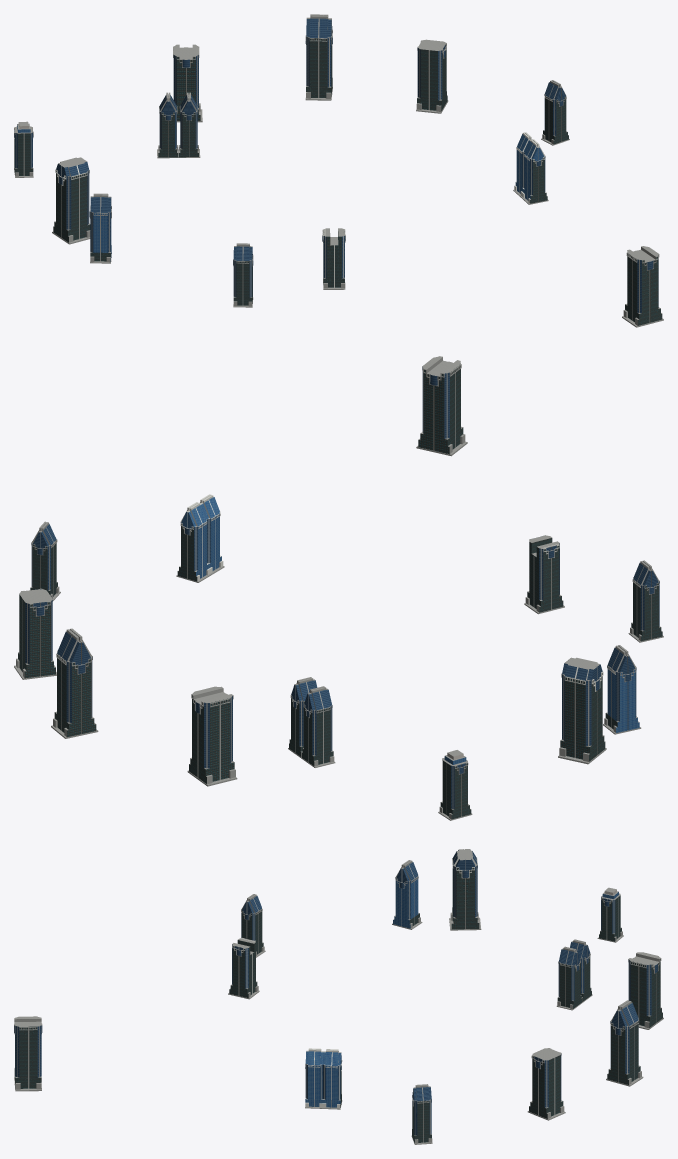
Rendered from Canada_track_building_city_01.dae.
3 renders of one model, top to bottom at view 1: azimuth 30°, elevation 25°; view 2: azimuth 150°, elevation 25°; view 3: azimuth 270°, elevation 25°, orthographic. The views are drawn at different scales.
Parts seen in each view (by area): view 1: building_city_01_03, building_city_01_010, building_city_01_11, building_city_01_09, building_city_01_02, building_city_01_06, building_city_01_10, building_city_01_04, building_city_01_12, building_city_01_08, building_city_01_07, building_city_01_01 (+1 smaller); view 2: building_city_01_03, building_city_01_06, building_city_01_010, building_city_01_11, building_city_01_09, building_city_01_02, building_city_01_10, building_city_01_12, building_city_01_07, building_city_01_08, building_city_01_05, building_city_01_04 (+1 smaller); view 3: building_city_01_11, building_city_01_02, building_city_01_06, building_city_01_03, building_city_01_09, building_city_01_010, building_city_01_10, building_city_01_12, building_city_01_01, building_city_01_04, building_city_01_05, building_city_01_08 (+1 smaller).
Boxes of the visible parts, left/top/right/bottom form: building_city_01_03: left=52, top=157, right=90, bottom=244; building_city_01_010: left=622, top=246, right=663, bottom=327; building_city_01_11: left=305, top=14, right=332, bottom=100; building_city_01_09: left=416, top=39, right=448, bottom=113; building_city_01_02: left=513, top=132, right=548, bottom=204; building_city_01_06: left=173, top=44, right=202, bottom=122; building_city_01_10: left=89, top=193, right=111, bottom=263; building_city_01_04: left=541, top=80, right=569, bottom=145; building_city_01_12: left=322, top=228, right=345, bottom=289; building_city_01_08: left=233, top=243, right=253, bottom=307; building_city_01_07: left=157, top=92, right=178, bottom=158; building_city_01_01: left=178, top=92, right=200, bottom=157; building_city_01_03: left=558, top=657, right=606, bottom=764; building_city_01_06: left=187, top=686, right=237, bottom=786; building_city_01_010: left=416, top=356, right=467, bottom=456; building_city_01_11: left=51, top=628, right=98, bottom=738; building_city_01_09: left=14, top=588, right=56, bottom=679; building_city_01_02: left=176, top=494, right=224, bottom=582; building_city_01_10: left=603, top=645, right=641, bottom=734; building_city_01_12: left=524, top=535, right=564, bottom=614; building_city_01_07: left=301, top=686, right=335, bottom=767; building_city_01_08: left=628, top=560, right=663, bottom=642; building_city_01_05: left=438, top=750, right=472, bottom=820; building_city_01_04: left=30, top=521, right=60, bottom=601; building_city_01_11: left=606, top=1000, right=643, bottom=1086; building_city_01_02: left=305, top=1048, right=342, bottom=1109; building_city_01_06: left=628, top=952, right=663, bottom=1029; building_city_01_03: left=449, top=849, right=481, bottom=930; building_city_01_09: left=527, top=1048, right=565, bottom=1120; building_city_01_010: left=14, top=1016, right=42, bottom=1091; building_city_01_10: left=392, top=860, right=422, bottom=929; building_city_01_12: left=228, top=938, right=259, bottom=999; building_city_01_01: left=556, top=946, right=582, bottom=1010; building_city_01_04: left=411, top=1084, right=432, bottom=1144; building_city_01_05: left=597, top=887, right=623, bottom=942; building_city_01_08: left=241, top=894, right=265, bottom=957.
Bounding box in the file's own units: 99.82 × 121 × 15.41.
6 materials, 6 textured.
